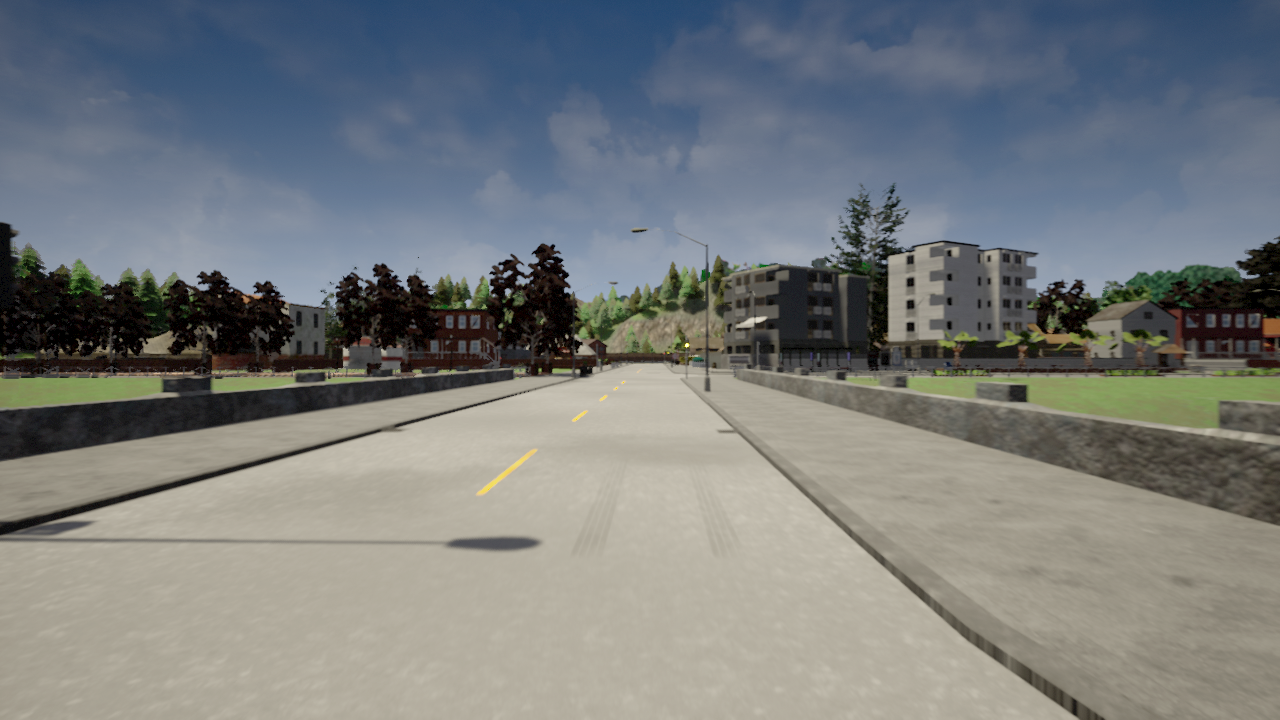yellow: (684, 338, 690, 352)
